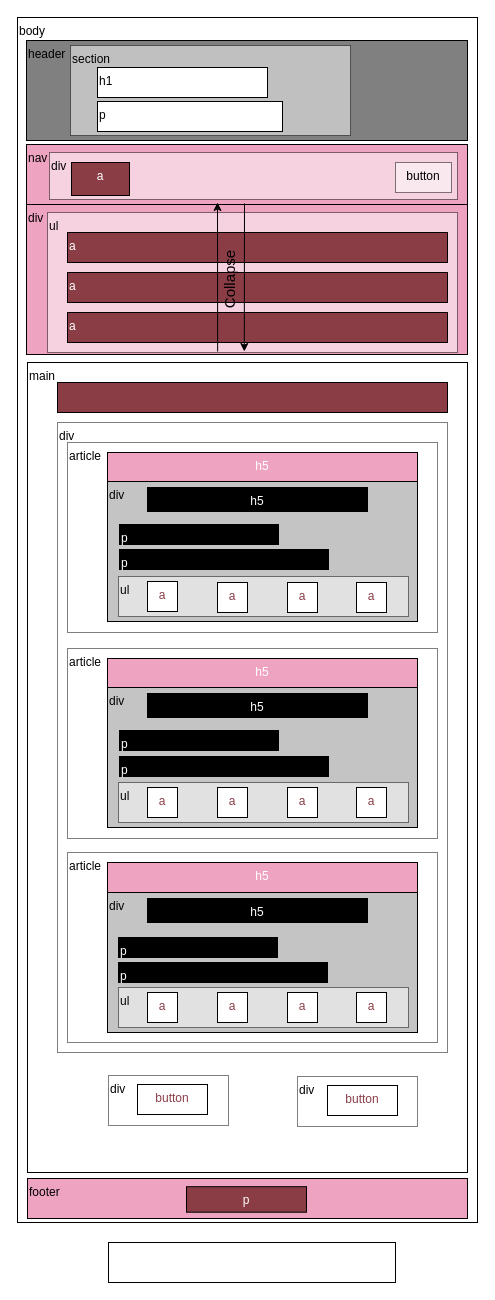
This 495x1300 diagram has some shape labels left out. Here are the shapes that lost their labels. From the top down, the centre of each, then its label:
(252,397): h2
(252,1262): Homepage mode smartphone
